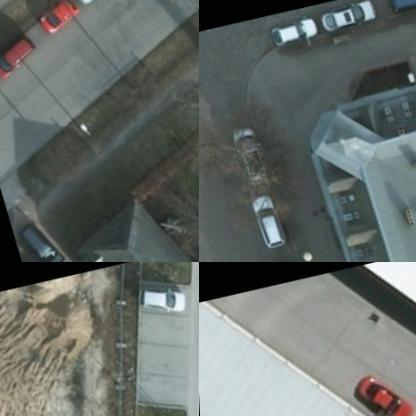car: (345, 362, 415, 415), (220, 124, 267, 188), (7, 216, 70, 261), (244, 194, 284, 252), (132, 282, 186, 324), (29, 0, 85, 40), (313, 0, 376, 34), (0, 41, 39, 93), (265, 15, 319, 48), (386, 0, 415, 19)
